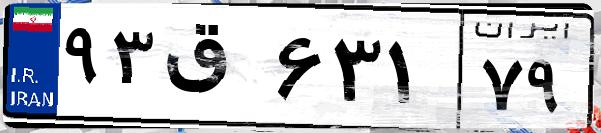1: (385, 28, 445, 110)
3: (330, 28, 385, 110), (110, 28, 158, 98)
6: (270, 28, 330, 110)
7: (475, 38, 525, 113)
9: (57, 26, 110, 100), (525, 38, 570, 115)
ق: (158, 20, 270, 120)
